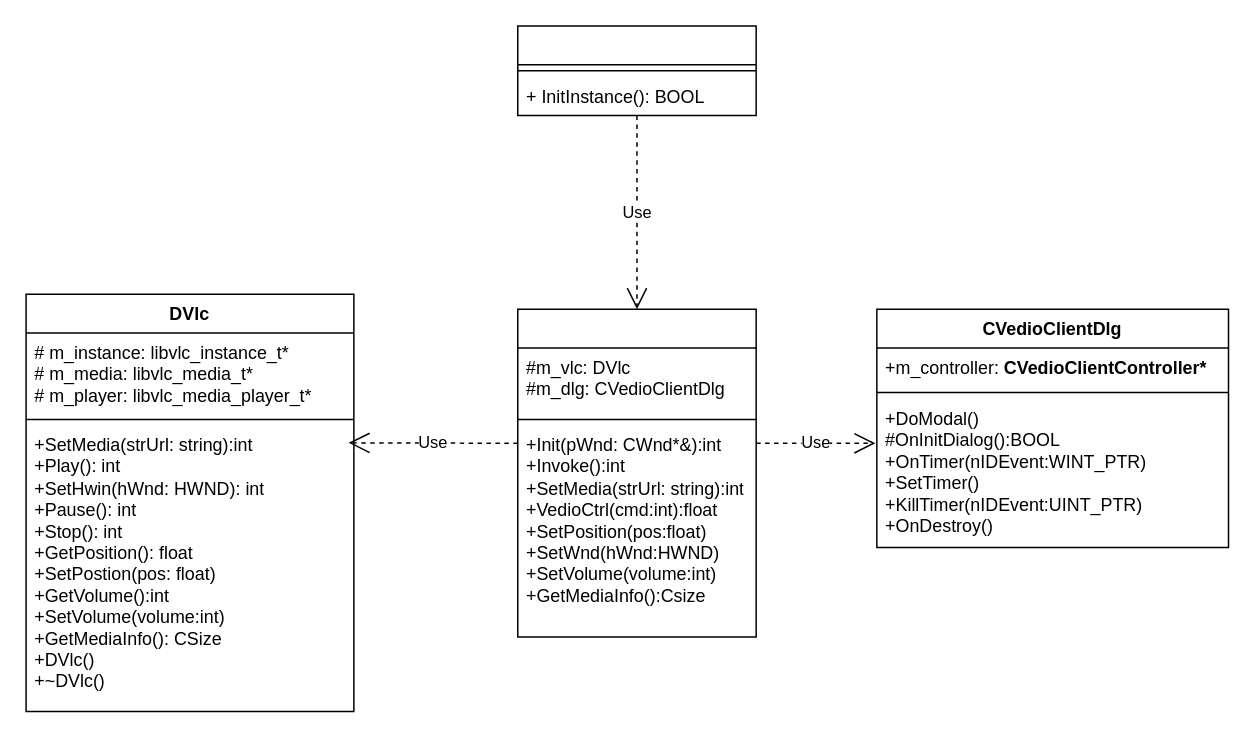
Some shapes in this 1255 by 742 pixel diagram are drawn without their labels. Each missing label, with the box of its shape:
CVedioClientApp: (516, 25, 756, 115)
CVedioClientController: (516, 308, 756, 637)
